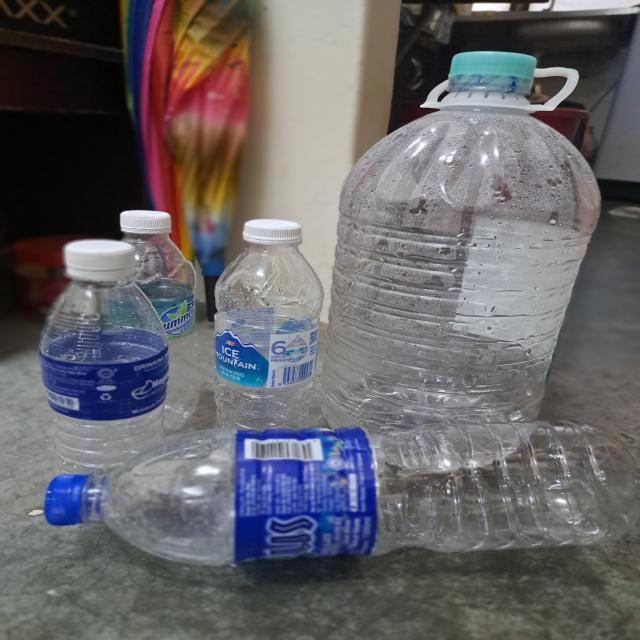plastic bottle: (328, 81, 602, 472), (91, 423, 606, 569), (38, 278, 171, 477), (215, 241, 324, 429), (122, 236, 200, 432)
plastic bottle cap: (64, 240, 136, 278), (448, 51, 537, 81), (45, 474, 88, 526), (119, 209, 172, 235), (242, 219, 302, 240)
